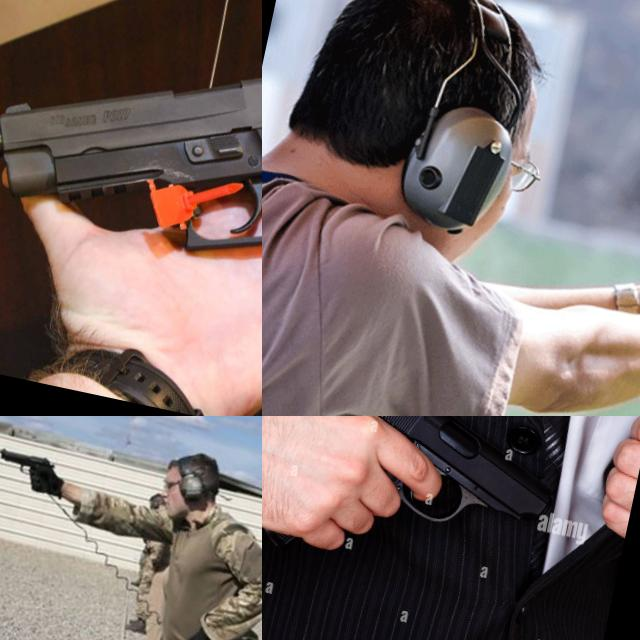handgun: (0, 0, 262, 416), (262, 416, 582, 631), (0, 444, 57, 483)
